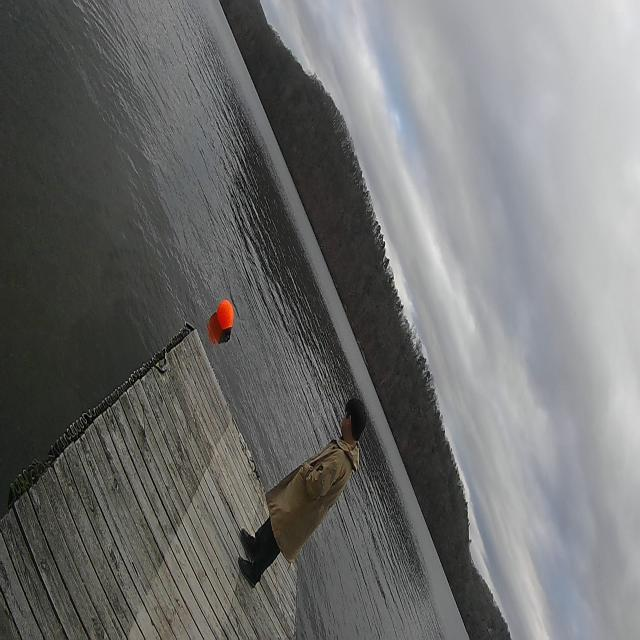Buoy: (216, 297, 236, 336)
